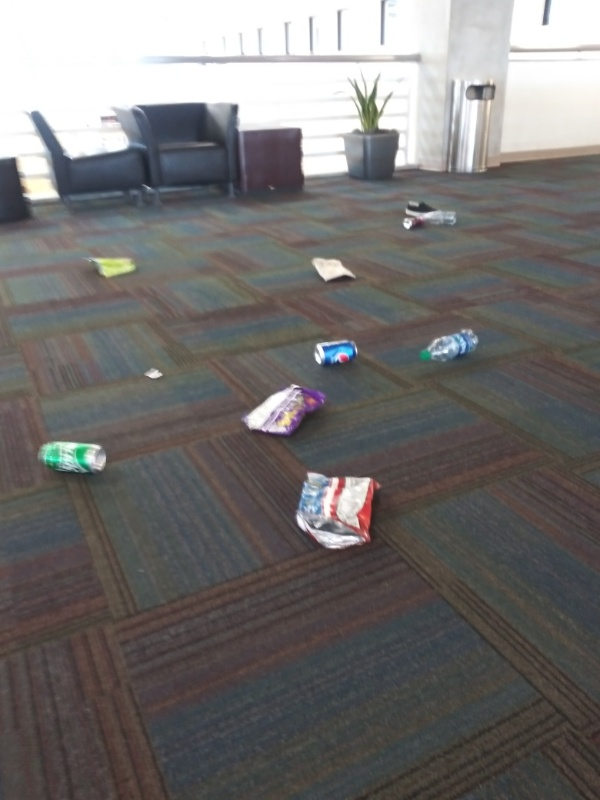bag: (285, 467, 386, 554), (237, 379, 334, 440), (309, 254, 361, 287), (79, 253, 137, 281)
bottle: (415, 327, 481, 366), (419, 207, 462, 225)
can: (34, 436, 110, 477), (308, 337, 362, 373), (397, 212, 418, 231)
